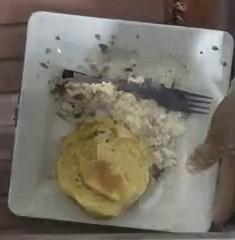rice: (54, 82, 185, 170)
